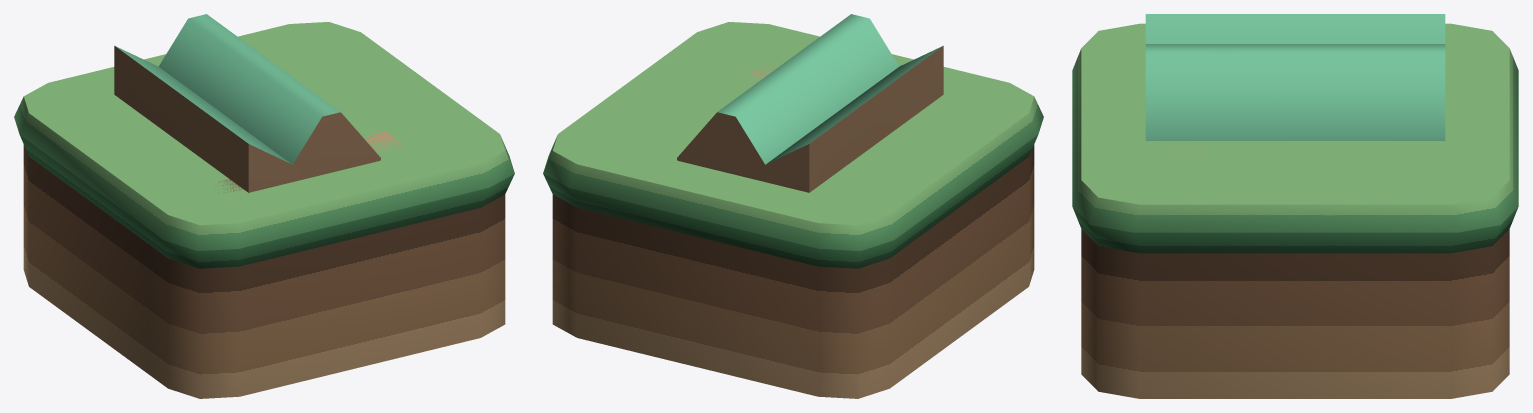
Rendered from kit-props.glb.
The picture shows the model from 3 angles, left to right: view 1: azimuth 30°, elevation 25°; view 2: azimuth 150°, elevation 25°; view 3: azimuth 270°, elevation 25°; orthographic projection. The views are drawn at different scales.
Visible parts, largest first — view 1: block-grass-large, cabin-roof-point, cabin-roof, block-grass, cabin-doorway; view 2: block-grass-large, cabin-roof-point, cabin-roof, block-grass; view 3: block-grass-large, cabin-roof-point, cabin-roof.
Boxes of the visible parts, x1=… form: block-grass-large: x1=14, y1=22, x2=514, y2=398; cabin-roof-point: x1=159, y1=14, x2=380, y2=184; cabin-roof: x1=114, y1=45, x2=301, y2=192; block-grass: x1=293, y1=77, x2=373, y2=140; cabin-doorway: x1=364, y1=131, x2=404, y2=151; block-grass-large: x1=543, y1=22, x2=1043, y2=398; cabin-roof-point: x1=677, y1=14, x2=898, y2=183; cabin-roof: x1=756, y1=45, x2=943, y2=192; block-grass: x1=683, y1=78, x2=761, y2=140; block-grass-large: x1=1072, y1=23, x2=1518, y2=398; cabin-roof-point: x1=1145, y1=44, x2=1445, y2=140; cabin-roof: x1=1145, y1=14, x2=1445, y2=43.
Size of the model in its own units: 2.08 by 1.48 by 2.08.
Materials: 3 (3 with a texture image).
